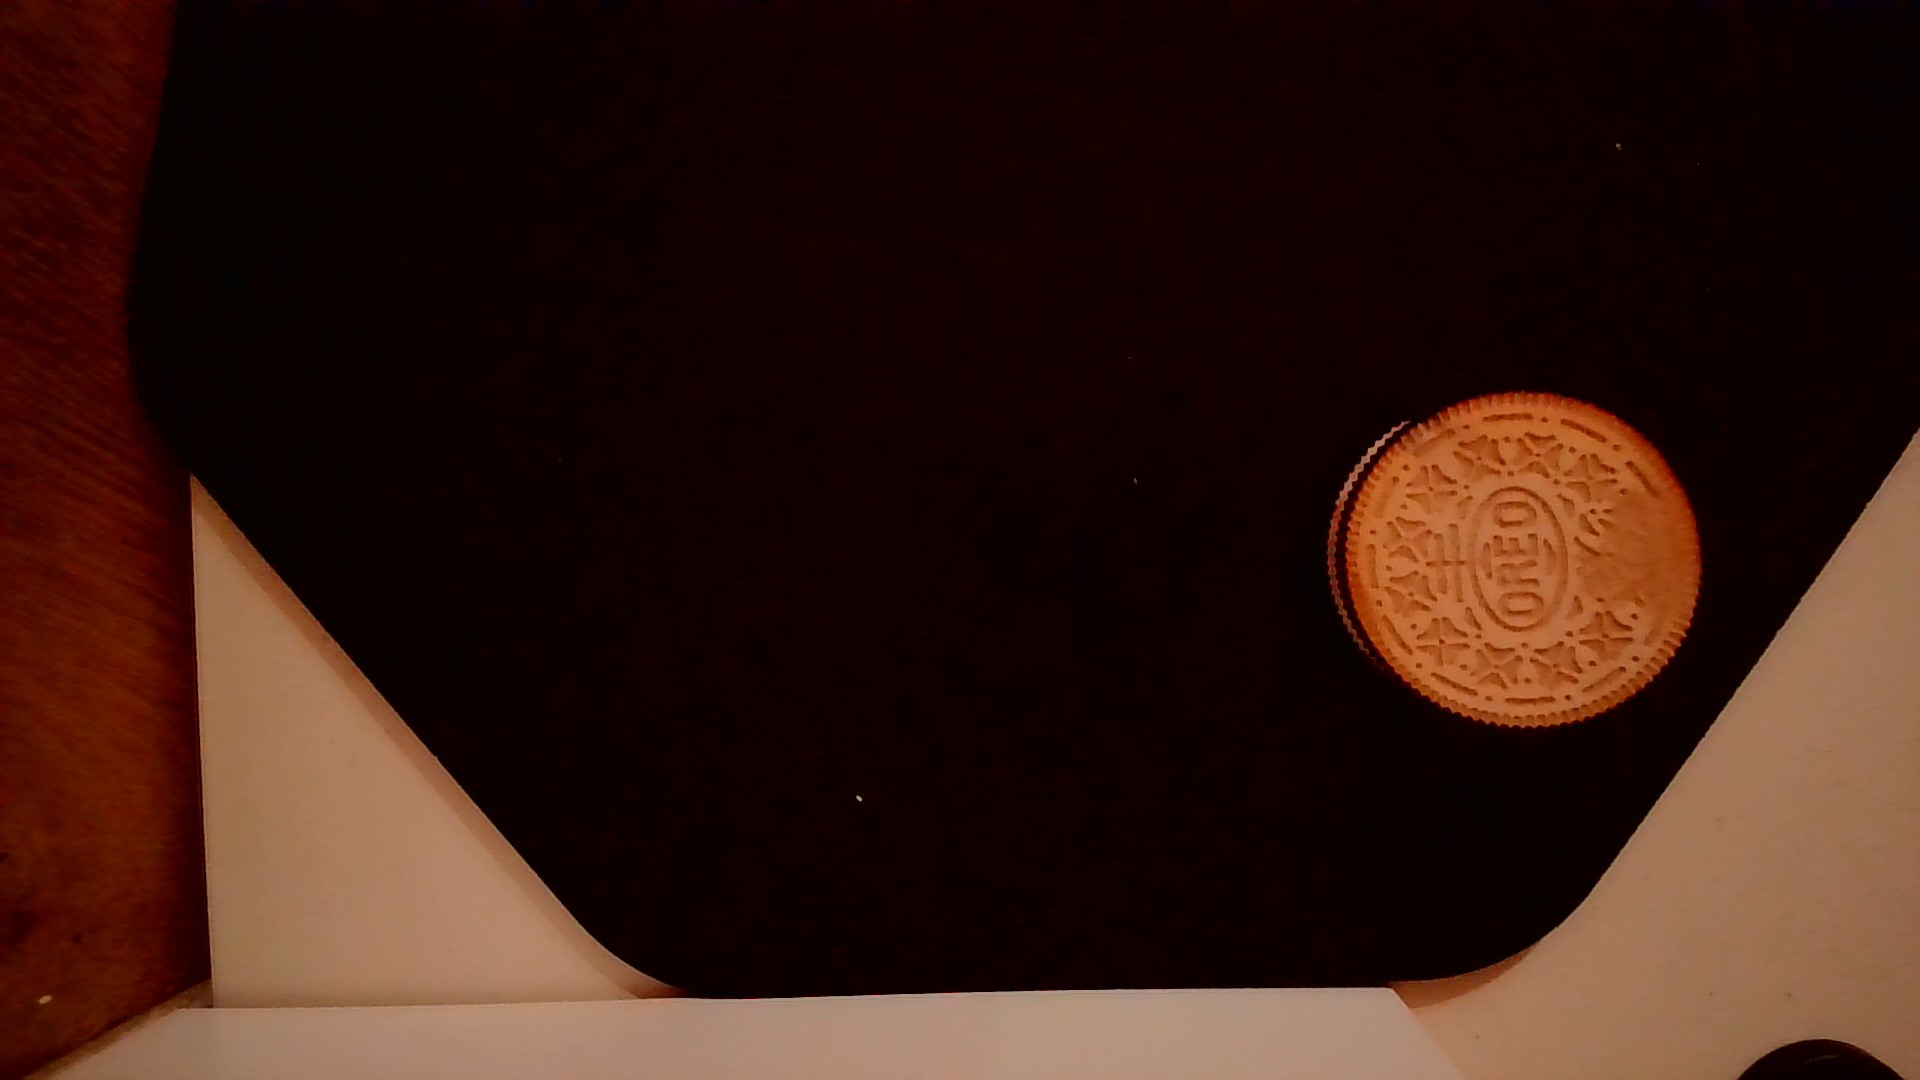Effacé: (1586, 477, 1698, 628)
Oréo: (1312, 380, 1712, 736)
